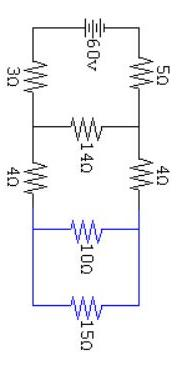resistor: (61, 209, 114, 241), (55, 290, 111, 320), (62, 108, 110, 142), (123, 49, 159, 93), (125, 145, 154, 195), (24, 152, 52, 201), (22, 52, 49, 101)
